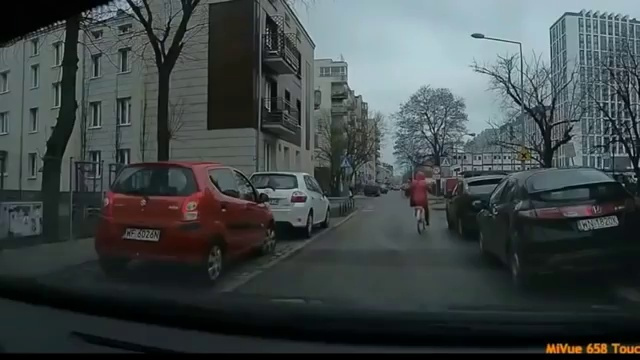cyclist_back: (407, 168, 432, 238)
